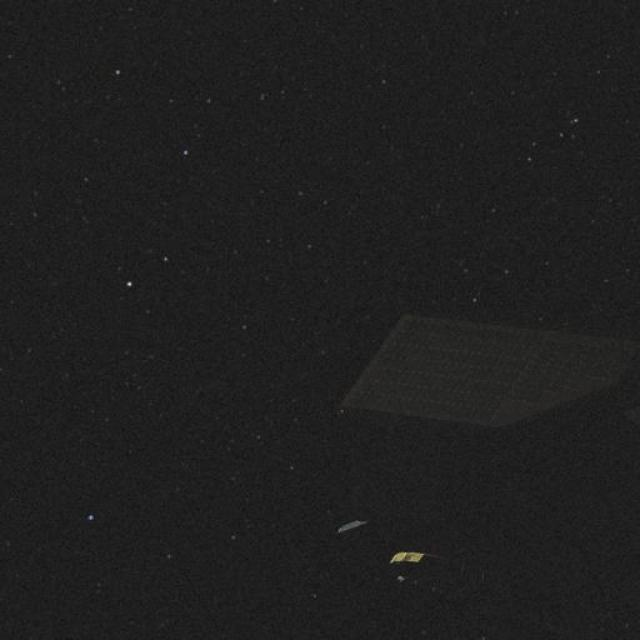cheops: (340, 310, 634, 456)
